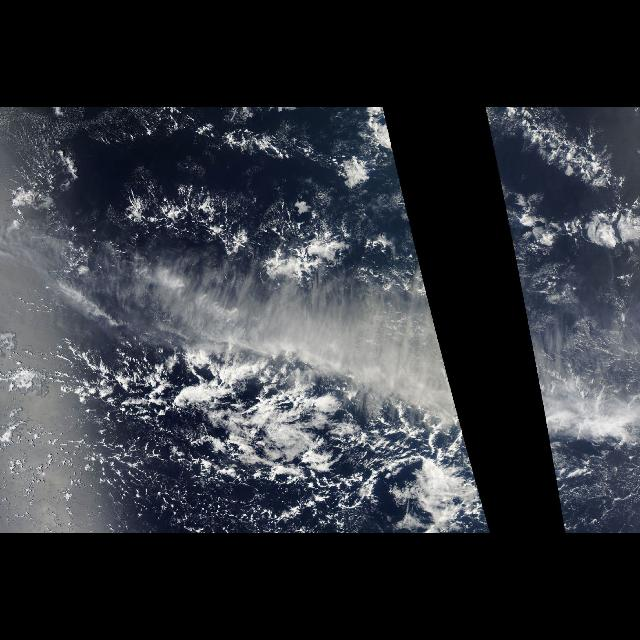Fish: (487, 107, 637, 289)
Gravel: (8, 465, 336, 533)
